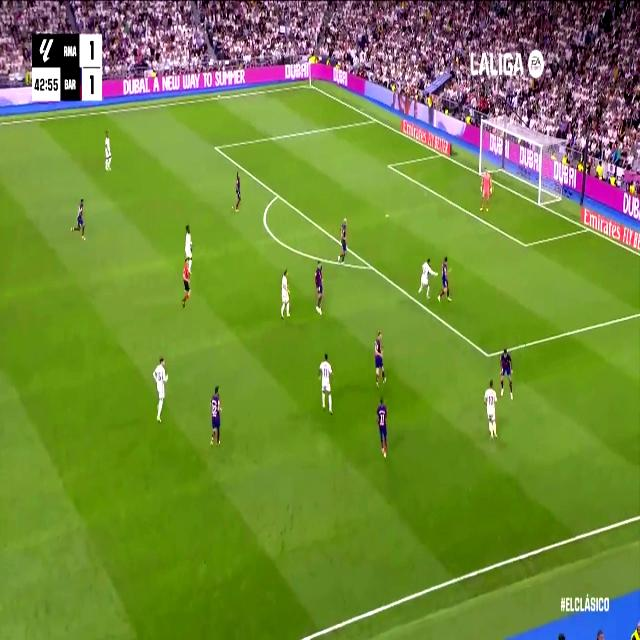bigarea_bottom_inner: (483, 342, 493, 367)
bigarea_top_inner: (214, 141, 218, 153)
bigarea_top_outter: (372, 113, 378, 124)
bottom_arc_area_intersection: (366, 257, 376, 275)
corner: (306, 80, 314, 90)
smallarea_top_inner: (387, 161, 391, 171)
top_arc_area_intersection: (274, 188, 280, 201)
